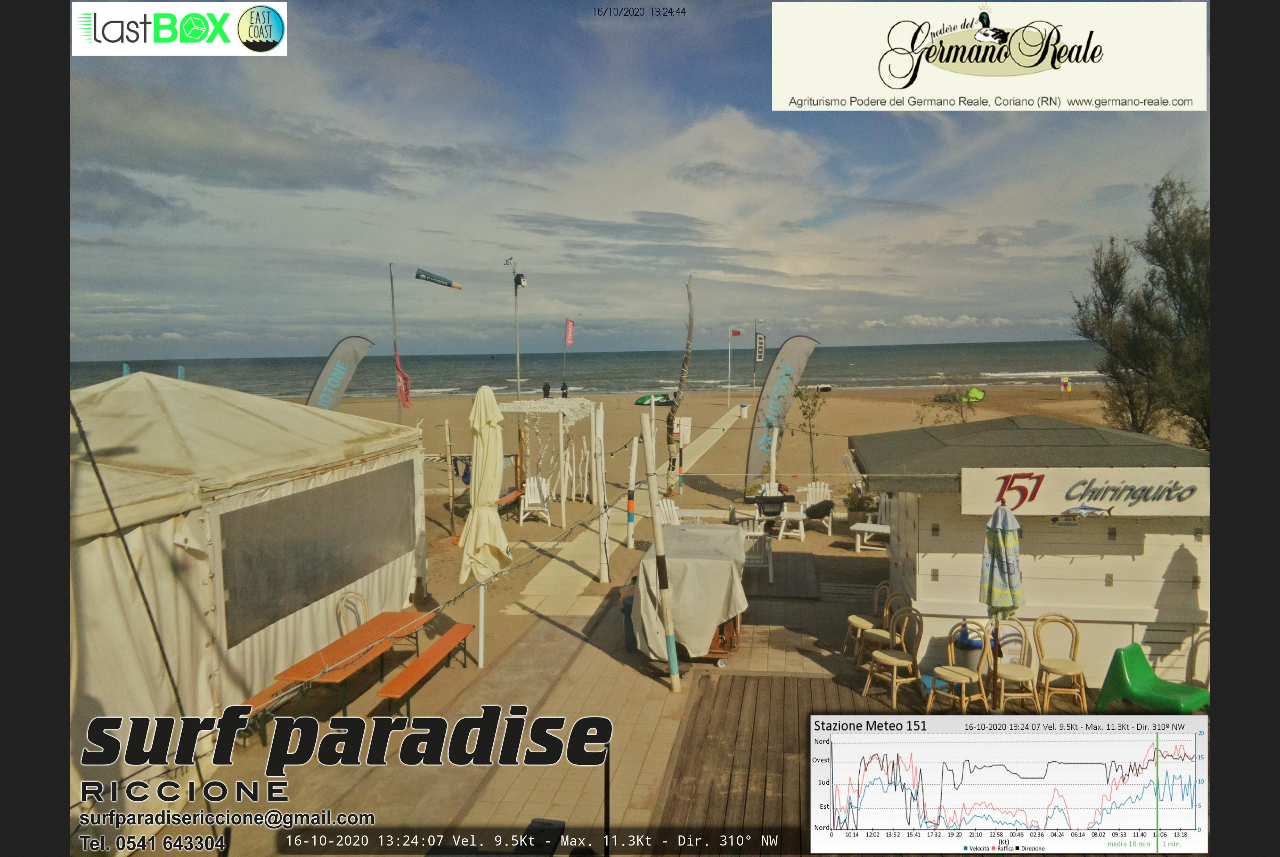yes: (560, 317, 578, 352), (727, 324, 746, 338)
